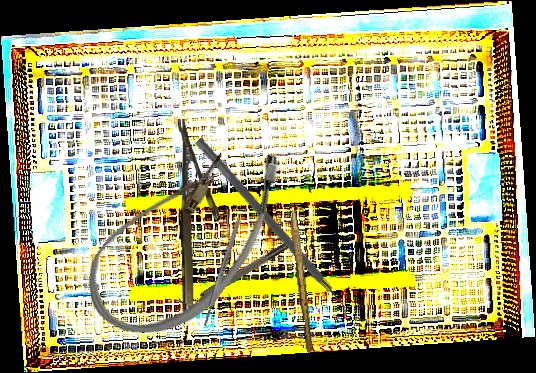Cannula: (68, 103, 306, 367)
Fixation Ring: (177, 240, 293, 317)
Needle Holder: (178, 118, 221, 318)
Scalpel Handle: (201, 215, 243, 329), (286, 209, 316, 353)
Spatula Surgical: (186, 137, 358, 323)
